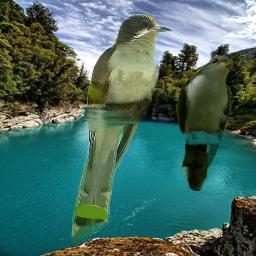Cuckoo: (71, 14, 173, 243), (176, 55, 234, 191)
